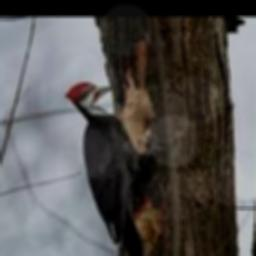Woodpecker: (65, 82, 158, 256)
